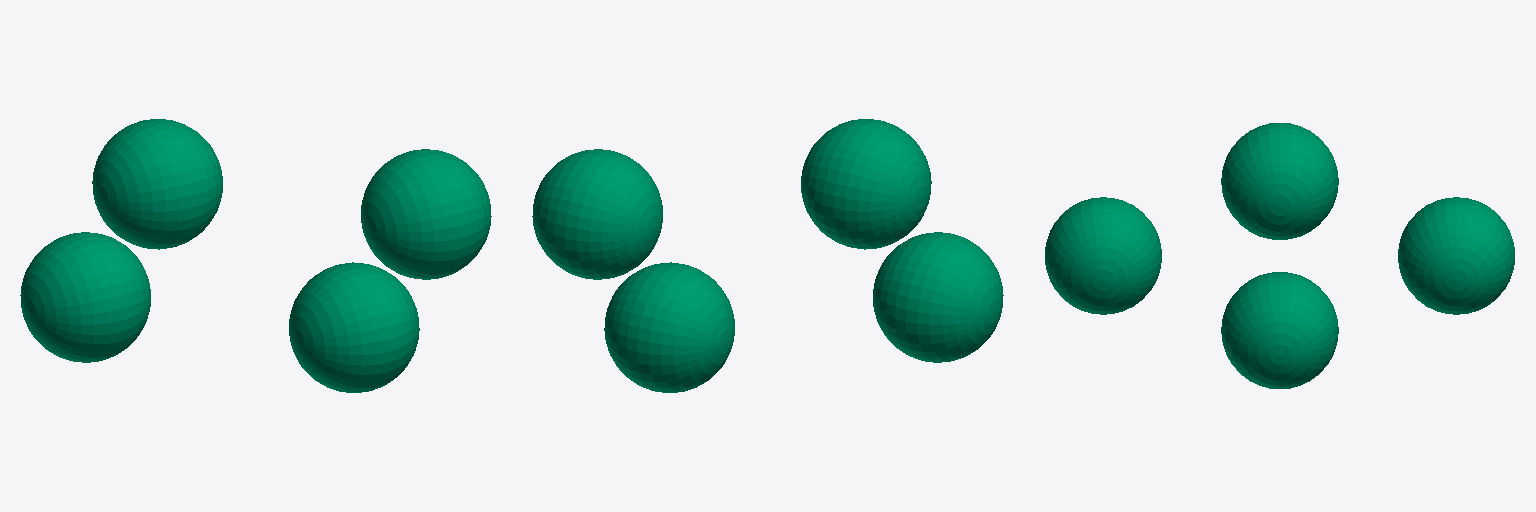
The robot description file, URDF, robot "iiwa14":
<?xml version="1.0" ?>
<!-- =================================================================================== -->
<!-- |    This document was autogenerated by xacro from urdf/iiwa14_polytope_collision.urdf.xacro | -->
<!-- |    EDITING THIS FILE BY HAND IS NOT RECOMMENDED                                 | -->
<!-- =================================================================================== -->
<!-- ===================================================================== -->
<!-- Collision models: complex meshes can drastically affect run time.
     Therefore most collision models are omitted in this model and link 7 uses a
     polytope model.
-->
<!-- ===================================================================== -->
<robot name="iiwa14" xmlns:xacro="http://www.ros.org/wiki/xacro">
  <!-- Import Rviz colors -->
  <material name="Black">
    <color rgba="0.0 0.0 0.0 1.0"/>
  </material>
  <material name="Blue">
    <color rgba="0.0 0.0 0.8 1.0"/>
  </material>
  <material name="Green">
    <color rgba="0.0 0.8 0.0 1.0"/>
  </material>
  <material name="Grey">
    <color rgba="0.4 0.4 0.4 1.0"/>
  </material>
  <material name="Orange">
    <color rgba="1.0 0.423529411765 0.0392156862745 1.0"/>
  </material>
  <material name="Brown">
    <color rgba="0.870588235294 0.811764705882 0.764705882353 1.0"/>
  </material>
  <material name="Red">
    <color rgba="0.8 0.0 0.0 1.0"/>
  </material>
  <material name="White">
    <color rgba="1.0 1.0 1.0 1.0"/>
  </material>
  <!-- Defines a base link that will serve as the model's root. -->
  <link name="base"/>
  <!--joint between {parent} and link_0-->
  <joint name="iiwa_base_joint" type="fixed">
    <origin rpy="0 0 0" xyz="0 0 0"/>
    <parent link="base"/>
    <child link="iiwa_link_0"/>
  </joint>
  <link name="iiwa_link_0">
    <inertial>
      <origin rpy="0 0 0" xyz="-0.1 0 0.07"/>
      <mass value="5"/>
      <inertia ixx="0.05" ixy="0" ixz="0" iyy="0.06" iyz="0" izz="0.03"/>
    </inertial>
    <visual>
      <origin rpy="0 0 0" xyz="0 0 0"/>
      <geometry>
        <mesh filename="../meshes/visual/link_0.obj"/>
      </geometry>
      <material name="Grey"/>
    </visual>
    <self_collision_checking>
      <origin rpy="0 0 0" xyz="0 0 0"/>
      <geometry>
        <capsule length="0.25" radius="0.15"/>
      </geometry>
    </self_collision_checking>
  </link>
  <!-- joint between link_0 and link_1 -->
  <joint name="iiwa_joint_1" type="revolute">
    <parent link="iiwa_link_0"/>
    <child link="iiwa_link_1"/>
    <origin rpy="0 0 0" xyz="0 0 0.1575"/>
    <axis xyz="0 0 1"/>
    <limit effort="300" lower="-2.96705972839" upper="2.96705972839" velocity="10"/>
    <safety_controller k_position="100" k_velocity="2" soft_lower_limit="-2.93215314335" soft_upper_limit="2.93215314335"/>
    <dynamics damping="0.5"/>
  </joint>
  <link name="iiwa_link_1">
    <inertial>
      <origin rpy="0 0 0" xyz="0 -0.03 0.12"/>
      <mass value="5.76"/>
      <inertia ixx="0.033" ixy="0" ixz="0" iyy="0.0333" iyz="0" izz="0.0123"/>
    </inertial>
    <visual>
      <origin rpy="0 0 0" xyz="0 0 0"/>
      <geometry>
        <mesh filename="../meshes/visual/link_1.obj"/>
      </geometry>
      <material name="Grey"/>
    </visual>
  </link>
  <!-- joint between link_1 and link_2 -->
  <joint name="iiwa_joint_2" type="revolute">
    <parent link="iiwa_link_1"/>
    <child link="iiwa_link_2"/>
    <origin rpy="1.57079632679   0 3.14159265359" xyz="0 0 0.2025"/>
    <axis xyz="0 0 1"/>
    <limit effort="300" lower="-2.09439510239" upper="2.09439510239" velocity="10"/>
    <safety_controller k_position="100" k_velocity="2" soft_lower_limit="-2.05948851735" soft_upper_limit="2.05948851735"/>
    <dynamics damping="0.5"/>
  </joint>
  <link name="iiwa_link_2">
    <inertial>
      <origin rpy="0 0 0" xyz="0.0003 0.059 0.042"/>
      <mass value="6.35"/>
      <!-- 3.95 kuka CAD value-->
      <!--4 Original Drake URDF value-->
      <inertia ixx="0.0305" ixy="0" ixz="0" iyy="0.0304" iyz="0" izz="0.011"/>
    </inertial>
    <visual>
      <origin rpy="0 0 0" xyz="0 0 0"/>
      <geometry>
        <mesh filename="../meshes/visual/link_2.obj"/>
      </geometry>
      <material name="Orange"/>
    </visual>
  </link>
  <!-- joint between link_2 and link_3 -->
  <joint name="iiwa_joint_3" type="revolute">
    <parent link="iiwa_link_2"/>
    <child link="iiwa_link_3"/>
    <origin rpy="1.57079632679 0 3.14159265359" xyz="0 0.2045 0"/>
    <axis xyz="0 0 1"/>
    <limit effort="300" lower="-2.96705972839" upper="2.96705972839" velocity="10"/>
    <safety_controller k_position="100" k_velocity="2" soft_lower_limit="-2.05948851735" soft_upper_limit="2.05948851735"/>
    <dynamics damping="0.5"/>
  </joint>
  <link name="iiwa_link_3">
    <inertial>
      <origin rpy="0 0 0" xyz="0 0.03 0.13"/>
      <mass value="3.5"/>
      <!--3.18 kuka CAD value-->
      <!--3 Original Drake URDF value-->
      <inertia ixx="0.025" ixy="0" ixz="0" iyy="0.0238" iyz="0" izz="0.0076"/>
    </inertial>
    <visual>
      <origin rpy="0 0 0" xyz="0 0 0"/>
      <geometry>
        <mesh filename="../meshes/visual/link_3.obj"/>
      </geometry>
      <material name="Grey"/>
    </visual>
  </link>
  <!-- joint between link_3 and link_4 -->
  <joint name="iiwa_joint_4" type="revolute">
    <parent link="iiwa_link_3"/>
    <child link="iiwa_link_4"/>
    <origin rpy="1.57079632679 0 0" xyz="0 0 0.2155"/>
    <axis xyz="0 0 1"/>
    <limit effort="300" lower="-2.09439510239" upper="2.09439510239" velocity="10"/>
    <safety_controller k_position="100" k_velocity="2" soft_lower_limit="-2.05948851735" soft_upper_limit="2.05948851735"/>
    <dynamics damping="0.5"/>
  </joint>
  <link name="iiwa_link_4">
    <inertial>
      <origin rpy="0 0 0" xyz="0 0.067 0.034"/>
      <mass value="3.5"/>
      <!--2.74 kuka CAD value-->
      <!--2.7 Original Drake URDF value-->
      <inertia ixx="0.017" ixy="0" ixz="0" iyy="0.0164" iyz="0" izz="0.006"/>
    </inertial>
    <visual>
      <origin rpy="0 0 0" xyz="0 0 0"/>
      <geometry>
        <mesh filename="../meshes/visual/link_4.obj"/>
      </geometry>
      <material name="Orange"/>
    </visual>
  </link>
  <!-- joint between link_4 and link_5 -->
  <joint name="iiwa_joint_5" type="revolute">
    <parent link="iiwa_link_4"/>
    <child link="iiwa_link_5"/>
    <origin rpy="-1.57079632679 3.14159265359 0" xyz="0 0.1845 0"/>
    <axis xyz="0 0 1"/>
    <limit effort="300" lower="-2.96705972839" upper="2.96705972839" velocity="10"/>
    <safety_controller k_position="100" k_velocity="2" soft_lower_limit="-2.05948851735" soft_upper_limit="2.05948851735"/>
    <dynamics damping="0.5"/>
  </joint>
  <link name="iiwa_link_5">
    <inertial>
      <origin rpy="0 0 0" xyz="0.0001 0.021 0.076"/>
      <mass value="3.5"/>
      <!--1.69 kuka CAD value-->
      <!--1.7 Original Drake URDF value-->
      <inertia ixx="0.01" ixy="0" ixz="0" iyy="0.0087" iyz="0" izz="0.00449"/>
    </inertial>
    <visual>
      <origin rpy="0 0 0" xyz="0 0 0"/>
      <geometry>
        <mesh filename="../meshes/visual/link_5.obj"/>
      </geometry>
      <material name="Grey"/>
    </visual>
  </link>
  <!-- joint between link_5 and link_6 -->
  <joint name="iiwa_joint_6" type="revolute">
    <parent link="iiwa_link_5"/>
    <child link="iiwa_link_6"/>
    <origin rpy="1.57079632679 0 0" xyz="0 0 0.2155"/>
    <axis xyz="0 0 1"/>
    <limit effort="300" lower="-2.09439510239" upper="2.09439510239" velocity="10"/>
    <safety_controller k_position="100" k_velocity="2" soft_lower_limit="-2.05948851735" soft_upper_limit="2.05948851735"/>
    <dynamics damping="0.5"/>
  </joint>
  <link name="iiwa_link_6">
    <inertial>
      <origin rpy="0 0 0" xyz="0 0.0006 0.0004"/>
      <mass value="1.8"/>
      <!--1.8 kuka CAD value-->
      <!--1.8 Original Drake URDF value-->
      <inertia ixx="0.0049" ixy="0" ixz="0" iyy="0.0047" iyz="0" izz="0.0036"/>
    </inertial>
    <visual>
      <origin rpy="0 0 0" xyz="0 0 0"/>
      <geometry>
        <mesh filename="../meshes/visual/link_6.obj"/>
      </geometry>
      <material name="Orange"/>
    </visual>
  </link>
  <!-- joint between link_6 and link_7 -->
  <joint name="iiwa_joint_7" type="revolute">
    <parent link="iiwa_link_6"/>
    <child link="iiwa_link_7"/>
    <origin rpy="-1.57079632679 3.14159265359 0" xyz="0 0.081 0"/>
    <axis xyz="0 0 1"/>
    <limit effort="300" lower="-3.05432619099" upper="3.05432619099" velocity="10"/>
    <safety_controller k_position="100" k_velocity="2" soft_lower_limit="-3.01941960595" soft_upper_limit="3.01941960595"/>
    <dynamics damping="0.5"/>
  </joint>
  <link name="iiwa_link_7">
    <inertial>
      <origin rpy="0 0 0" xyz="0 0 0.02"/>
      <mass value="1.2"/>
      <!--0.31 kuka CAD value-->
      <!--0.3 Original Drake URDF value-->
      <inertia ixx="0.001" ixy="0" ixz="0" iyy="0.001" iyz="0" izz="0.001"/>
    </inertial>
    <visual>
      <origin rpy="0 0 0" xyz="0 0 0"/>
      <geometry>
        <mesh filename="../meshes/visual/link_7.obj"/>
      </geometry>
      <material name="Grey"/>
    </visual>
    <!--
    <collision>
      <origin rpy="0 0 0" xyz="0 0 0"/>
      <geometry>
        <mesh filename="../meshes/collision/link_7_polytope.obj"/>
      </geometry>
      <material name="Grey"/>
    </collision>
    -->
  </link>
  <joint name="iiwa_joint_ee" type="fixed">
    <parent link="iiwa_link_7"/>
    <child link="iiwa_link_ee_kuka"/>
    <origin rpy="3.14159265359 3.14159265359 3.14159265359" xyz="0 0 0.045"/>
    <axis xyz="0 0 1"/>
  </joint>
  <link name="iiwa_link_ee_kuka">
    </link>
  <joint name="tool0_joint" type="fixed">
    <parent link="iiwa_link_7"/>
    <child link="iiwa_link_ee"/>
    <origin rpy="0 -1.57079632679 0" xyz="0 0 0.045"/>
  </joint>
  <link name="iiwa_link_ee">
    <collision name='collision'>
      <origin rpy="0 0 0" xyz="0.0 0.03 0"/>
      <geometry>
        <sphere radius="0.0"/>
      </geometry>
    </collision>
    <visual>
      <origin rpy="0 0 0" xyz="0.0 0.03 0"/>
      <geometry>
        <sphere radius="0.01"/>
      </geometry>
    </visual>
    <collision name='collision'>
      <origin rpy="0 0 0" xyz="0.0 -0.03 0"/>
      <geometry>
        <sphere radius="0.0"/>
      </geometry>
    </collision>
    <visual>
      <origin rpy="0 0 0" xyz="0.0 -0.03 0"/>
      <geometry>
        <sphere radius="0.01"/>
      </geometry>
    </visual>
    <collision name='collision'>
      <origin rpy="0 0 0" xyz="0 0 0.03"/>
      <geometry>
        <sphere radius="0.0"/>
      </geometry>
    </collision>
    <visual>
      <origin rpy="0 0 0" xyz="0 0 0.03"/>
      <geometry>
        <sphere radius="0.01"/>
      </geometry>
    </visual>
    <collision name='collision'>
      <origin rpy="0 0 0" xyz="0 0 -0.03"/>
      <geometry>
        <sphere radius="0.0"/>
      </geometry>
    </collision>
    <visual>
      <origin rpy="0 0 0" xyz="0 0 -0.03"/>
      <geometry>
        <sphere radius="0.01"/>
      </geometry>
    </visual>
  </link>
  <frame link="iiwa_link_ee" name="iiwa_frame_ee" rpy="3.14159265359 0 1.57079632679" xyz="0.09 0 0"/>
  <!-- Load Gazebo lib and set the robot namespace -->
  <gazebo>
    <plugin filename="libgazebo_ros_control.so" name="gazebo_ros_controller">
      <robotNamespace>/iiwa</robotNamespace>
    </plugin>
  </gazebo>
  <!-- Link0 -->
  <gazebo reference="iiwa_link_0">
    <material>Gazebo/Grey</material>
    <mu1>0.2</mu1>
    <mu2>0.2</mu2>
  </gazebo>
  <!-- Link1 -->
  <gazebo reference="iiwa_link_1">
    <material>Gazebo/Orange</material>
    <mu1>0.2</mu1>
    <mu2>0.2</mu2>
  </gazebo>
  <!-- Link2 -->
  <gazebo reference="iiwa_link_2">
    <material>Gazebo/Orange</material>
    <mu1>0.2</mu1>
    <mu2>0.2</mu2>
  </gazebo>
  <!-- Link3 -->
  <gazebo reference="iiwa_link_3">
    <material>Gazebo/Orange</material>
    <mu1>0.2</mu1>
    <mu2>0.2</mu2>
  </gazebo>
  <!-- Link4 -->
  <gazebo reference="iiwa_link_4">
    <material>Gazebo/Orange</material>
    <mu1>0.2</mu1>
    <mu2>0.2</mu2>
  </gazebo>
  <!-- Link5 -->
  <gazebo reference="iiwa_link_5">
    <material>Gazebo/Orange</material>
    <mu1>0.2</mu1>
    <mu2>0.2</mu2>
  </gazebo>
  <!-- Link6 -->
  <gazebo reference="iiwa_link_6">
    <material>Gazebo/Orange</material>
    <mu1>0.2</mu1>
    <mu2>0.2</mu2>
  </gazebo>
  <!-- Link7 -->
  <gazebo reference="iiwa_link_7">
    <material>Gazebo/Grey</material>
    <mu1>0.2</mu1>
    <mu2>0.2</mu2>
  </gazebo>
  <transmission name="iiwa_tran_1">
    <robotNamespace>/iiwa</robotNamespace>
    <type>transmission_interface/SimpleTransmission</type>
    <joint name="iiwa_joint_1">
      <hardwareInterface>PositionJointInterface</hardwareInterface>
    </joint>
    <actuator name="iiwa_motor_1">
      <hardwareInterface>PositionJointInterface</hardwareInterface>
      <mechanicalReduction>1</mechanicalReduction>
    </actuator>
  </transmission>
  <transmission name="iiwa_tran_2">
    <robotNamespace>/iiwa</robotNamespace>
    <type>transmission_interface/SimpleTransmission</type>
    <joint name="iiwa_joint_2">
      <hardwareInterface>PositionJointInterface</hardwareInterface>
    </joint>
    <actuator name="iiwa_motor_2">
      <hardwareInterface>PositionJointInterface</hardwareInterface>
      <mechanicalReduction>1</mechanicalReduction>
    </actuator>
  </transmission>
  <transmission name="iiwa_tran_3">
    <robotNamespace>/iiwa</robotNamespace>
    <type>transmission_interface/SimpleTransmission</type>
    <joint name="iiwa_joint_3">
      <hardwareInterface>PositionJointInterface</hardwareInterface>
    </joint>
    <actuator name="iiwa_motor_3">
      <hardwareInterface>PositionJointInterface</hardwareInterface>
      <mechanicalReduction>1</mechanicalReduction>
    </actuator>
  </transmission>
  <transmission name="iiwa_tran_4">
    <robotNamespace>/iiwa</robotNamespace>
    <type>transmission_interface/SimpleTransmission</type>
    <joint name="iiwa_joint_4">
      <hardwareInterface>PositionJointInterface</hardwareInterface>
    </joint>
    <actuator name="iiwa_motor_4">
      <hardwareInterface>PositionJointInterface</hardwareInterface>
      <mechanicalReduction>1</mechanicalReduction>
    </actuator>
  </transmission>
  <transmission name="iiwa_tran_5">
    <robotNamespace>/iiwa</robotNamespace>
    <type>transmission_interface/SimpleTransmission</type>
    <joint name="iiwa_joint_5">
      <hardwareInterface>PositionJointInterface</hardwareInterface>
    </joint>
    <actuator name="iiwa_motor_5">
      <hardwareInterface>PositionJointInterface</hardwareInterface>
      <mechanicalReduction>1</mechanicalReduction>
    </actuator>
  </transmission>
  <transmission name="iiwa_tran_6">
    <robotNamespace>/iiwa</robotNamespace>
    <type>transmission_interface/SimpleTransmission</type>
    <joint name="iiwa_joint_6">
      <hardwareInterface>PositionJointInterface</hardwareInterface>
    </joint>
    <actuator name="iiwa_motor_6">
      <hardwareInterface>PositionJointInterface</hardwareInterface>
      <mechanicalReduction>1</mechanicalReduction>
    </actuator>
  </transmission>
  <transmission name="iiwa_tran_7">
    <robotNamespace>/iiwa</robotNamespace>
    <type>transmission_interface/SimpleTransmission</type>
    <joint name="iiwa_joint_7">
      <hardwareInterface>PositionJointInterface</hardwareInterface>
    </joint>
    <actuator name="iiwa_motor_7">
      <hardwareInterface>PositionJointInterface</hardwareInterface>
      <mechanicalReduction>1</mechanicalReduction>
    </actuator>
  </transmission>
</robot>

--- Render facts (derived) ---
3 views of the same robot in one strip: view 1: azimuth 30°, elevation 25°; view 2: azimuth 150°, elevation 25°; view 3: azimuth 270°, elevation 25° (orthographic).
Robot: iiwa14 — 11 links, 10 joints (7 revolute, 3 fixed); root link base; default pose: every joint at zero.
Visible links, largest first — view 1: iiwa_link_ee; view 2: iiwa_link_ee; view 3: iiwa_link_ee.
Link boxes in pixels (x1=…): iiwa_link_ee: x1=20, y1=119, x2=491, y2=392; iiwa_link_ee: x1=532, y1=119, x2=1003, y2=392; iiwa_link_ee: x1=1045, y1=123, x2=1514, y2=388.
Bounding box of the posed robot: 0.08 × 0.08 × 0.02 m (x, y, z).
0 mesh visuals loaded from 8 distinct referenced files (none loaded); not drawn: 8 (reference not matched to a file when rendering).